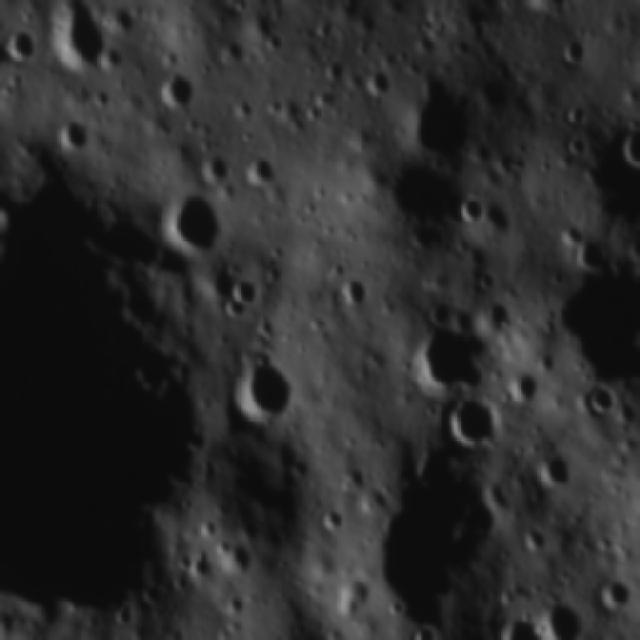crater: (363, 439, 494, 633), (365, 156, 469, 253), (409, 304, 498, 394), (410, 68, 485, 167), (221, 344, 296, 433), (158, 192, 238, 258), (56, 1, 116, 79), (437, 388, 508, 447), (541, 588, 588, 640), (153, 64, 204, 111), (533, 444, 578, 493), (577, 380, 625, 422), (245, 144, 282, 193), (213, 537, 258, 577), (576, 235, 619, 274), (54, 114, 92, 158), (515, 365, 554, 406), (3, 24, 40, 65), (356, 59, 396, 96), (558, 31, 592, 71), (519, 518, 556, 554), (313, 494, 345, 534), (336, 274, 370, 311), (228, 274, 263, 309), (317, 50, 351, 85), (460, 192, 492, 226), (599, 577, 633, 609), (225, 94, 258, 120), (555, 222, 587, 246), (565, 98, 590, 127), (262, 31, 288, 58), (569, 132, 594, 154)
